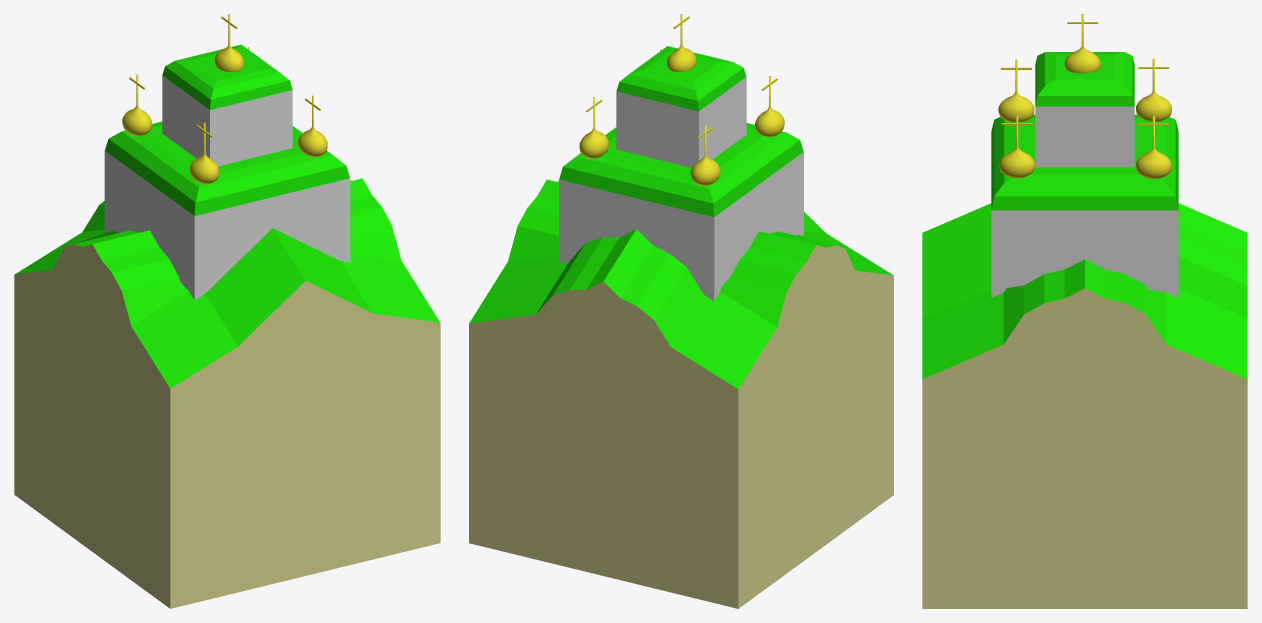
The model's file is 4church.fbx.
3 renders of one model, left to right at view 1: azimuth 30°, elevation 25°; view 2: azimuth 150°, elevation 25°; view 3: azimuth 270°, elevation 25°, orthographic. The views are drawn at different scales.
Parts seen in each view (by area): view 1: Cube.028, Cube.029, krest.011, krest.012, krest.010, krest.008; view 2: Cube.028, Cube.029, krest.012, krest.009, krest.011, krest.008; view 3: Cube.028, Cube.029, krest.010, krest.009, krest.011, krest.012, krest.008.
Boxes of the visible parts, x1,y1,x2,y2 form: Cube.028: (14, 178, 440, 608); Cube.029: (104, 44, 350, 300); krest.011: (190, 122, 219, 184); krest.012: (122, 74, 151, 136); krest.010: (298, 95, 327, 157); krest.008: (214, 14, 244, 71); Cube.028: (469, 179, 893, 608); Cube.029: (559, 46, 803, 300); krest.012: (690, 124, 720, 186); krest.009: (579, 97, 608, 158); krest.011: (755, 76, 784, 137); krest.008: (667, 14, 696, 71); Cube.028: (922, 203, 1247, 608); Cube.029: (991, 52, 1178, 297); krest.010: (999, 115, 1035, 178); krest.009: (1136, 115, 1171, 179); krest.011: (998, 59, 1034, 122); krest.012: (1136, 59, 1171, 121); krest.008: (1064, 14, 1100, 73).
Bounding box in the file's own units: 1750 × 3126 × 1750.
